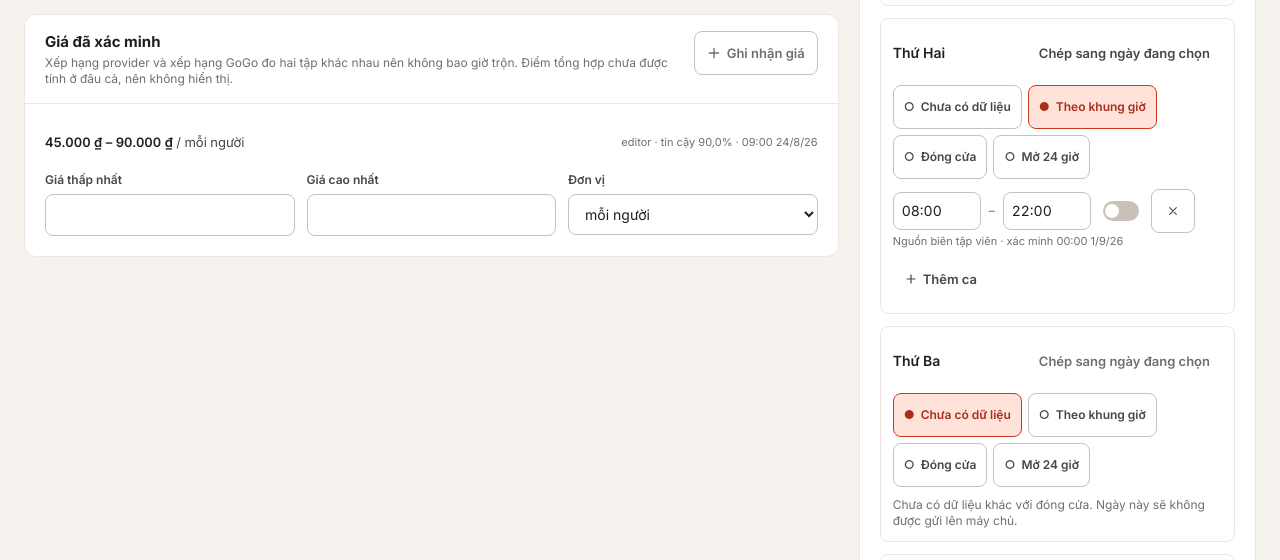
Test: typing, and what survives a rejection › a rejected PUT leaves the draft exactly where it was
The image size is (1280, 560).
(page scrolled)
Step 1. Type "23:45" into the field named "Giờ đóng ngày Thứ Hai" → (1047, 211), box [1003,192,1091,230]
(page scrolled)
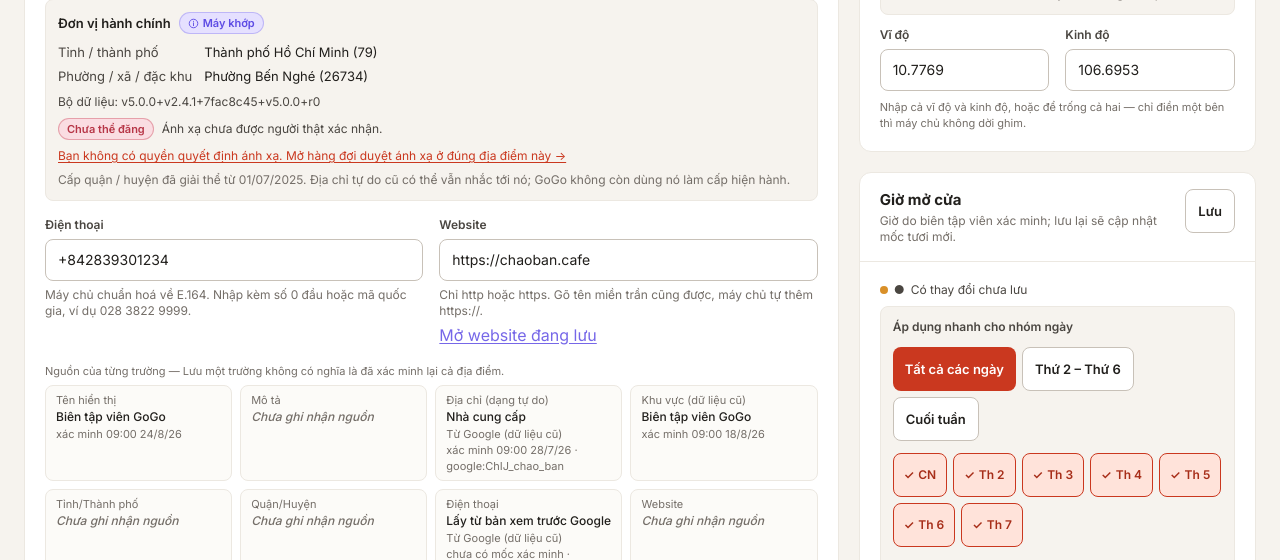
Step 2. Click the button "Lưu" → (1210, 211), box [1185,189,1235,233]
(page scrolled)
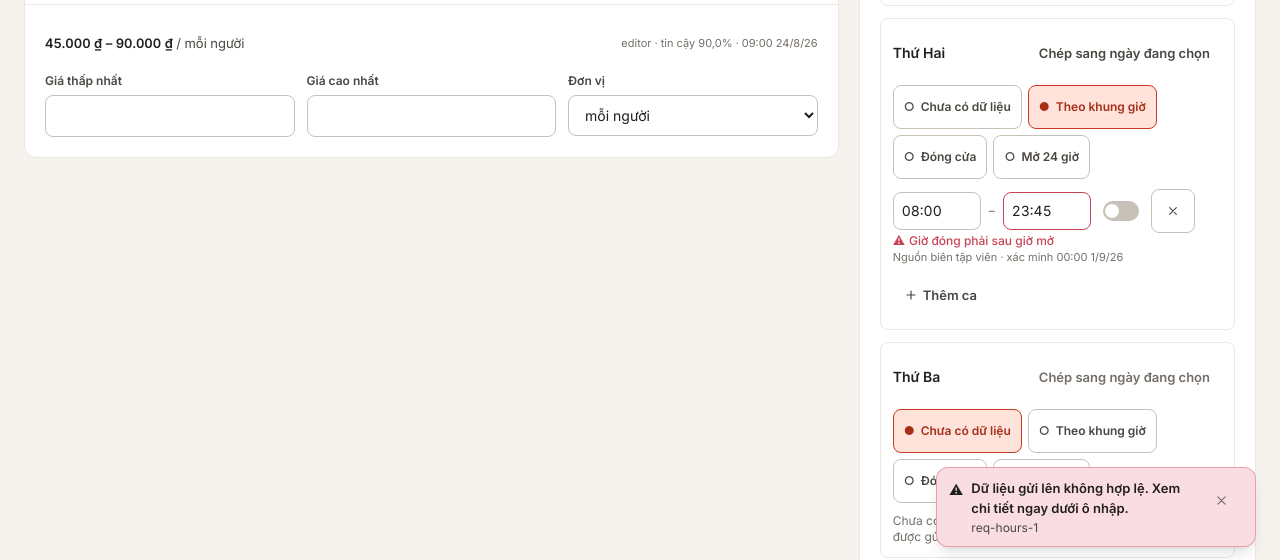
Now the text "Giờ đóng phải sau giờ mở" is shown, box [909,233,1054,248]
